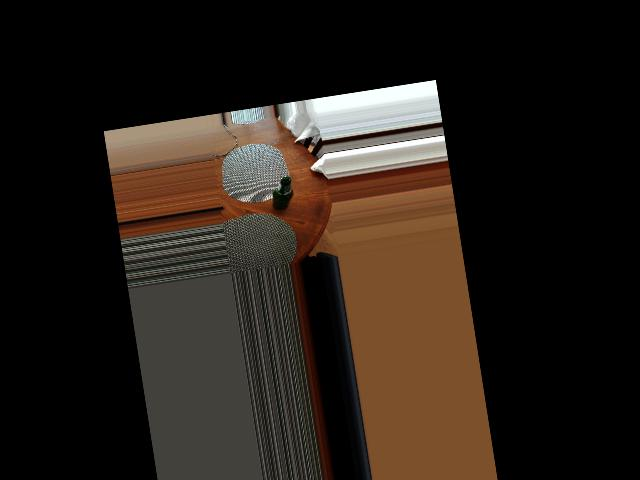beer: (269, 176, 295, 211)
